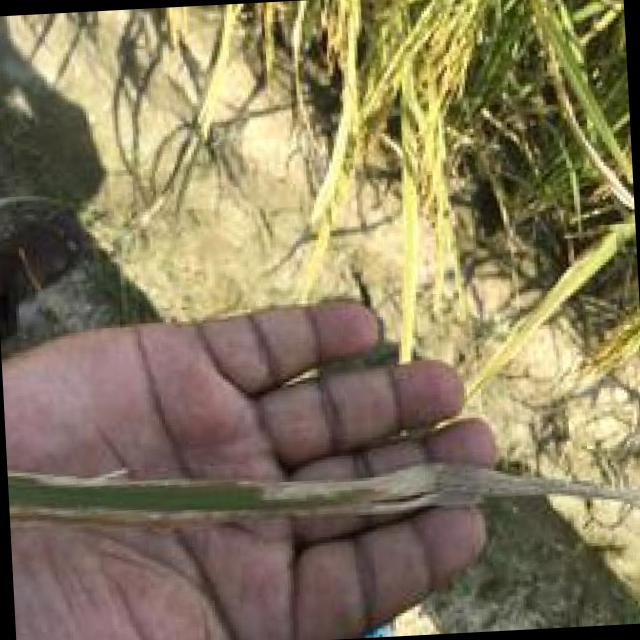Rice_Bacterial_Blight: (18, 425, 616, 542)
